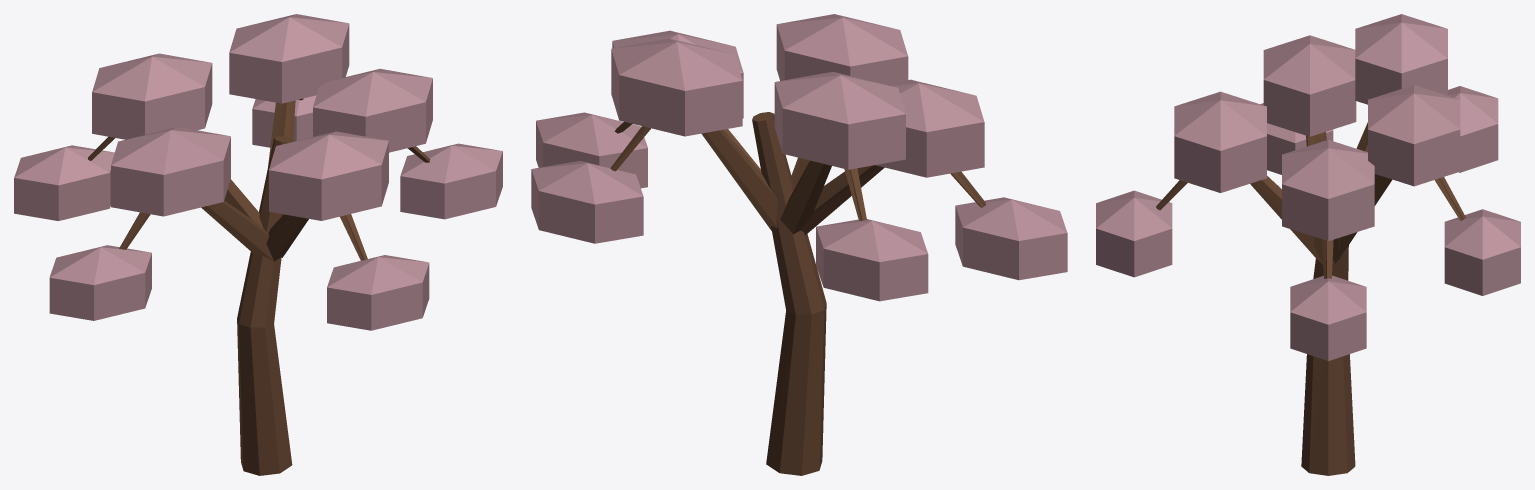
File: Plant_Feature_Rural_FloweringCherry_001_LOD1.glb
3 views of the same model, side by side, from view 1: azimuth 30°, elevation 25°; view 2: azimuth 150°, elevation 25°; view 3: azimuth 270°, elevation 25° (orthographic). The views are drawn at different scales.
Visible parts, largest first — view 1: Plant_Feature_Rural_FloweringCherry_001_LOD1; view 2: Plant_Feature_Rural_FloweringCherry_001_LOD1; view 3: Plant_Feature_Rural_FloweringCherry_001_LOD1.
Part boxes in pixels (<box>): Plant_Feature_Rural_FloweringCherry_001_LOD1: <box>14,14,502,475</box>; Plant_Feature_Rural_FloweringCherry_001_LOD1: <box>531,14,1067,475</box>; Plant_Feature_Rural_FloweringCherry_001_LOD1: <box>1096,14,1520,475</box>.
Size of the model in its own units: 5.08 by 4.15 by 3.92.
